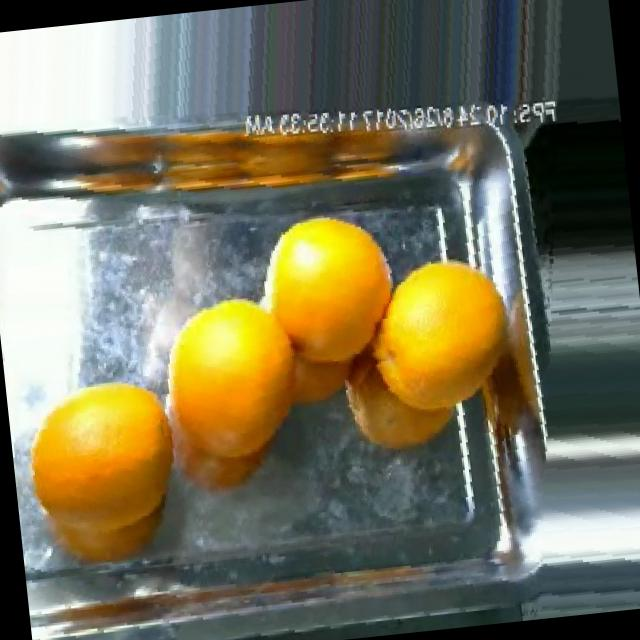Fruit: (3, 348, 204, 590), (248, 194, 412, 356), (516, 106, 635, 268)
